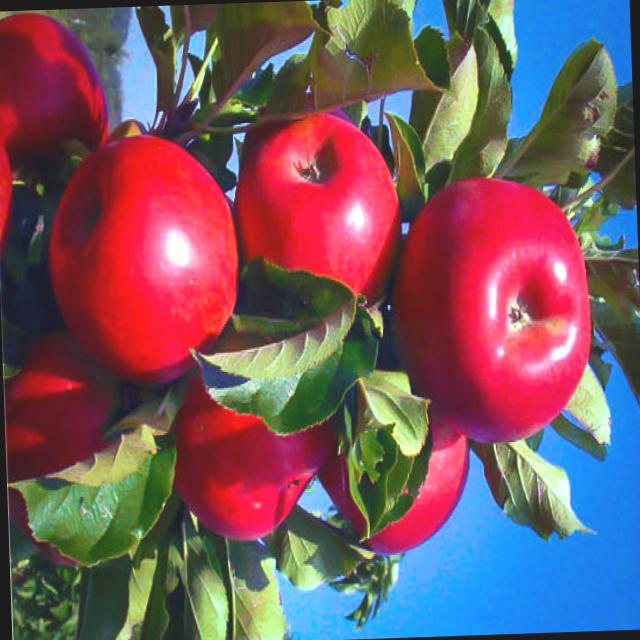apple: (388, 164, 598, 454), (32, 130, 242, 380), (236, 104, 400, 321)
